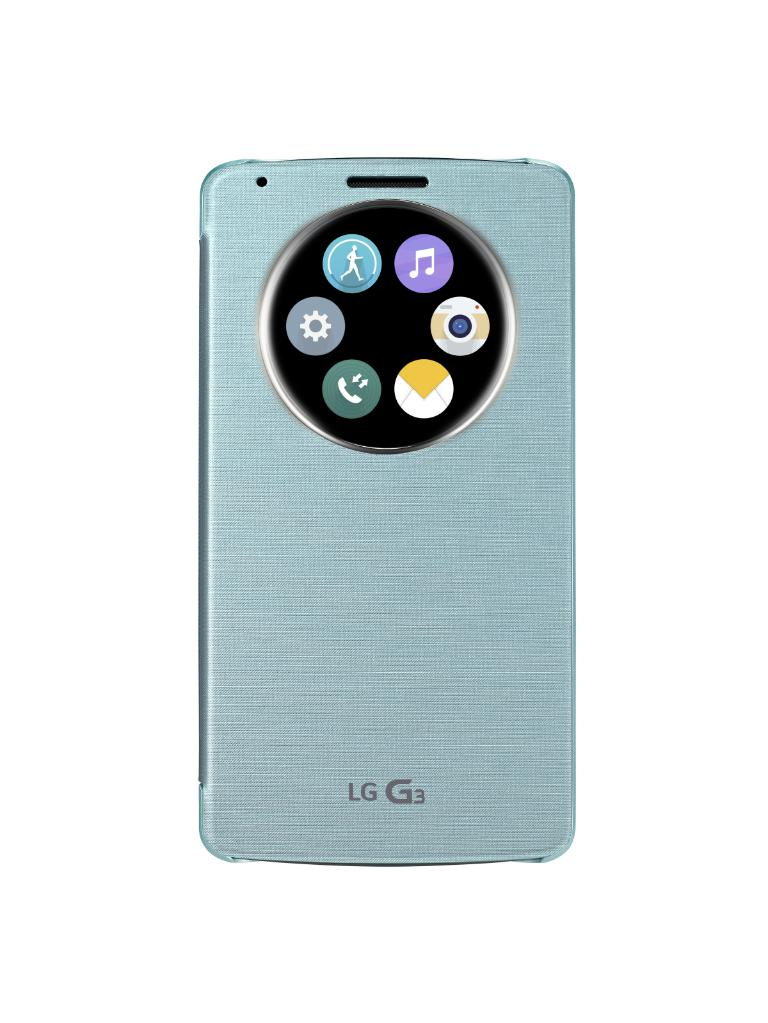Mobile-phone: (196, 154, 582, 863)
